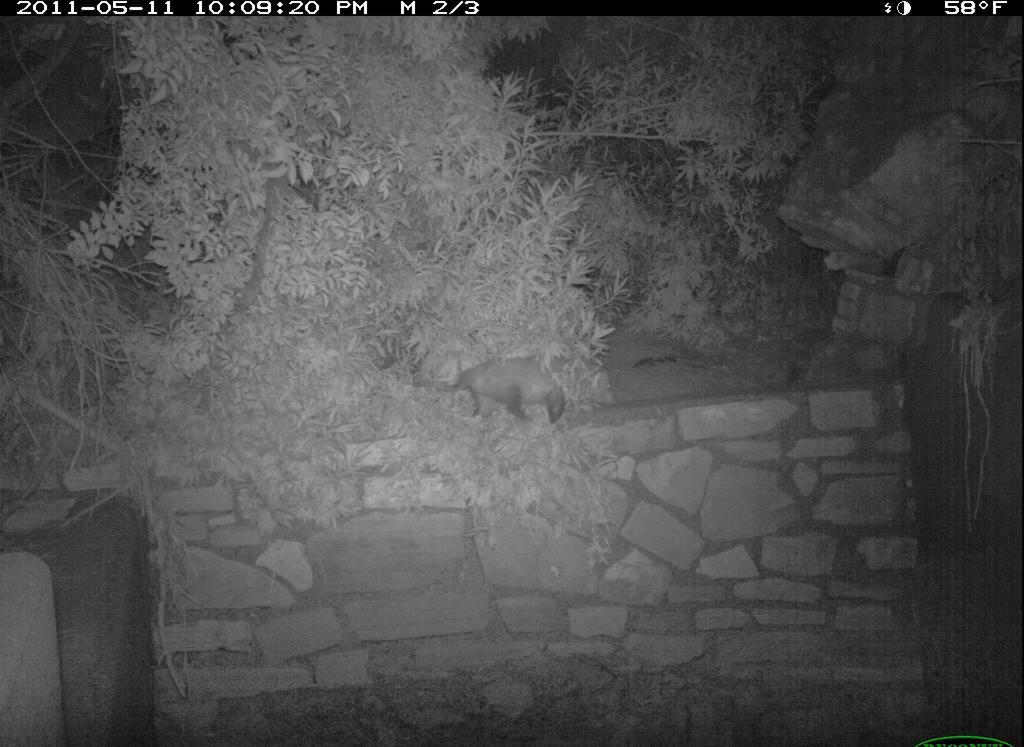opossum: (410, 344, 591, 441)
